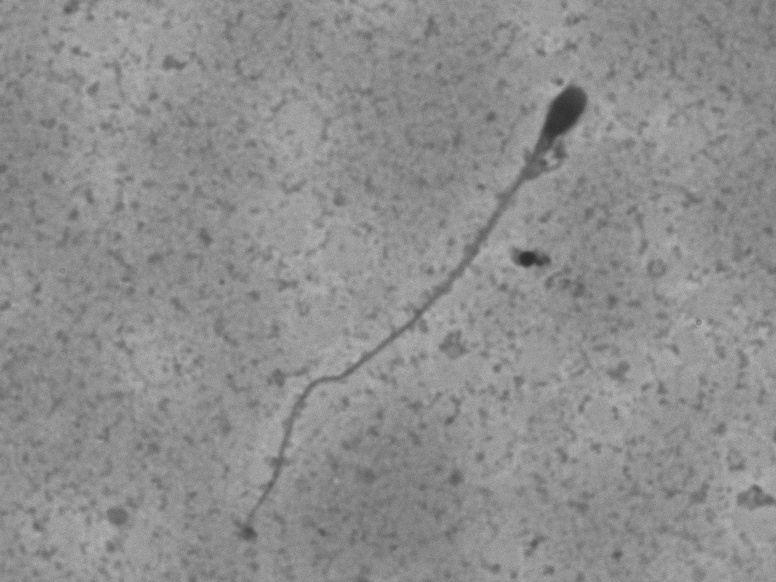Abnormal: (282, 22, 652, 473)
